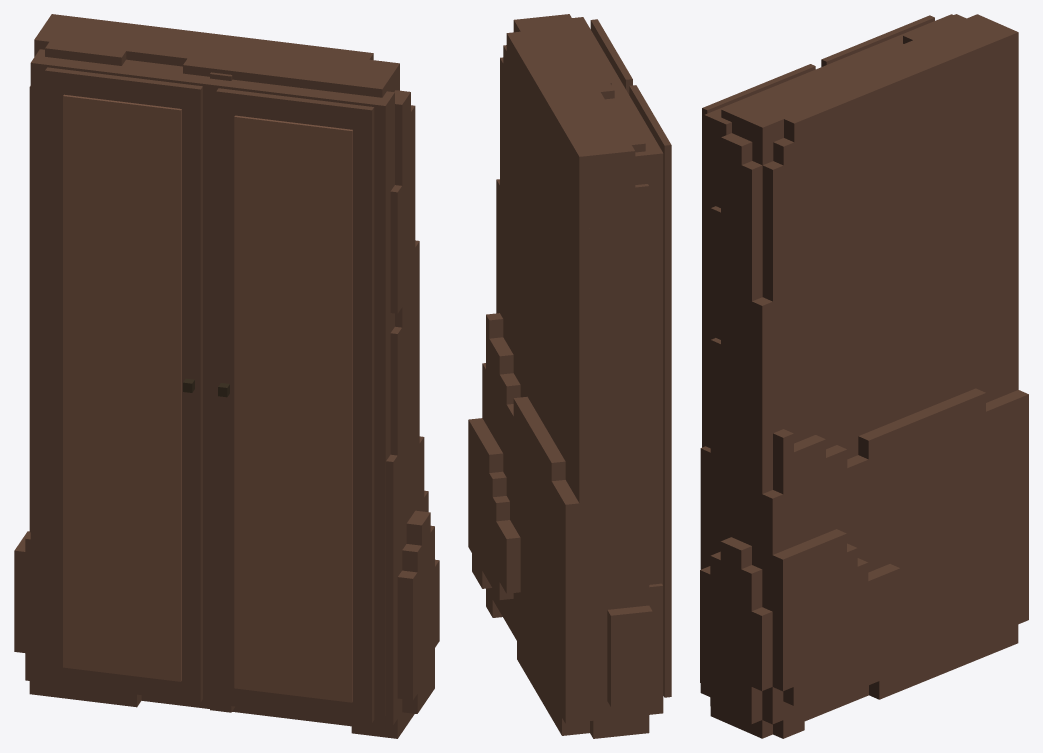
File: Cabinet.glb
The picture shows the model from 3 angles, left to right: view 1: azimuth 30°, elevation 25°; view 2: azimuth 150°, elevation 25°; view 3: azimuth 270°, elevation 25°; orthographic projection. The views are drawn at different scales.
Visible parts, largest first — view 1: 立方體.002, 立方體.004, 立方體, 立方體.003, 立方體.001, 立方體.005; view 2: 立方體, 立方體.003, 立方體.005, 立方體.001; view 3: 立方體, 立方體.003, 立方體.001, 立方體.005.
Boxes of the visible parts, x1,y1,x2,y2 form: 立方體.002: (234, 115, 352, 702); 立方體.004: (63, 94, 181, 681); 立方體: (14, 14, 439, 738); 立方體.003: (30, 49, 394, 716); 立方體.001: (216, 88, 374, 722); 立方體.005: (45, 67, 202, 702); 立方體: (468, 14, 663, 738); 立方體.003: (572, 17, 663, 585); 立方體.005: (629, 85, 671, 697); 立方體.001: (590, 19, 632, 94); 立方體: (700, 14, 1028, 738); 立方體.003: (704, 14, 953, 448); 立方體.001: (702, 64, 815, 447); 立方體.005: (821, 15, 934, 66).
Bounding box in the file's own units: 8.97 × 17.92 × 8.87.
